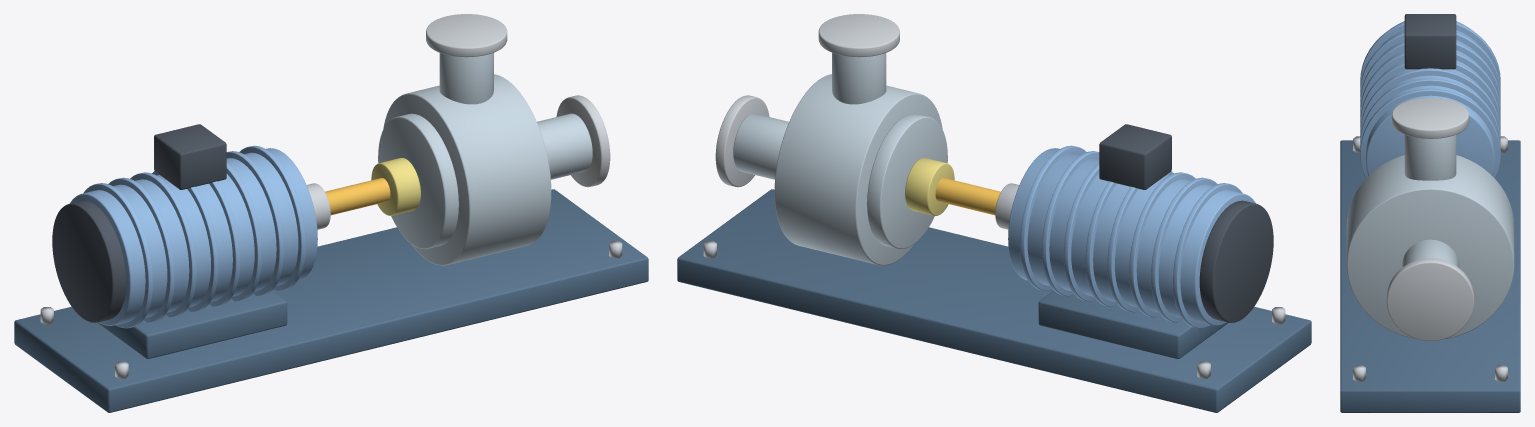
File: marine_cooling_pump.glb
3 views of the same model, side by side, from view 1: azimuth 30°, elevation 25°; view 2: azimuth 150°, elevation 25°; view 3: azimuth 270°, elevation 25° (orthographic). The views are drawn at different scales.
Parts seen in each view (by area): view 1: Pump_Skid, Motor_Body, Pump_Casing, Motor_End_Cap, Casing_Cover, Pump_Skid_Pedestal, Motor_Terminal_Box, Discharge_Flange, Suction_Port, Discharge_Port, Suction_Flange, Shaft_Seal (+10 smaller); view 2: Pump_Skid, Motor_Body, Pump_Casing, Motor_End_Cap, Casing_Cover, Pump_Skid_Pedestal, Motor_Terminal_Box, Discharge_Flange, Suction_Port, Discharge_Port, Suction_Flange, Shaft_Seal (+10 smaller); view 3: Pump_Skid, Pump_Casing, Suction_Flange, Motor_Body, Motor_Terminal_Box, Discharge_Flange, Discharge_Port, Motor_Cooling_Fin_8, Motor_Cooling_Fin_7, Motor_Cooling_Fin_6, Suction_Port, Motor_Cooling_Fin_1 (+6 smaller).
Part boxes in pixels (left/top/right/bottom): Pump_Skid: left=14, top=189, right=648, bottom=412; Motor_Body: left=70, top=148, right=317, bottom=325; Pump_Casing: left=383, top=74, right=551, bottom=265; Motor_End_Cap: left=52, top=200, right=126, bottom=322; Casing_Cover: left=378, top=113, right=458, bottom=249; Pump_Skid_Pedestal: left=97, top=291, right=287, bottom=358; Motor_Terminal_Box: left=154, top=124, right=226, bottom=189; Discharge_Flange: left=426, top=14, right=507, bottom=57; Suction_Port: left=537, top=113, right=592, bottom=179; Discharge_Port: left=439, top=53, right=493, bottom=104; Suction_Flange: left=556, top=95, right=610, bottom=187; Shaft_Seal: left=371, top=158, right=420, bottom=215; Pump_Skid: left=677, top=189, right=1311, bottom=412; Motor_Body: left=1008, top=148, right=1255, bottom=325; Pump_Casing: left=774, top=74, right=942, bottom=265; Motor_End_Cap: left=1199, top=200, right=1273, bottom=322; Casing_Cover: left=867, top=113, right=947, bottom=249; Pump_Skid_Pedestal: left=1038, top=291, right=1228, bottom=358; Motor_Terminal_Box: left=1099, top=124, right=1171, bottom=189; Discharge_Flange: left=818, top=14, right=899, bottom=57; Suction_Port: left=733, top=113, right=788, bottom=179; Discharge_Port: left=832, top=53, right=886, bottom=104; Suction_Flange: left=715, top=95, right=769, bottom=187; Shaft_Seal: left=905, top=158, right=954, bottom=215; Pump_Skid: left=1340, top=140, right=1520, bottom=412; Pump_Casing: left=1346, top=155, right=1514, bottom=339; Suction_Flange: left=1386, top=258, right=1474, bottom=341; Motor_Body: left=1366, top=21, right=1494, bottom=175; Motor_Terminal_Box: left=1404, top=14, right=1456, bottom=69; Discharge_Flange: left=1391, top=98, right=1469, bottom=138; Discharge_Port: left=1404, top=135, right=1456, bottom=180; Motor_Cooling_Fin_8: left=1360, top=88, right=1500, bottom=178; Motor_Cooling_Fin_7: left=1360, top=78, right=1500, bottom=147; Motor_Cooling_Fin_6: left=1360, top=68, right=1500, bottom=137; Suction_Port: left=1402, top=239, right=1458, bottom=267; Motor_Cooling_Fin_1: left=1360, top=22, right=1500, bottom=86.
Bounding box in the file's own units: 4.6 × 2.03 × 1.4.
